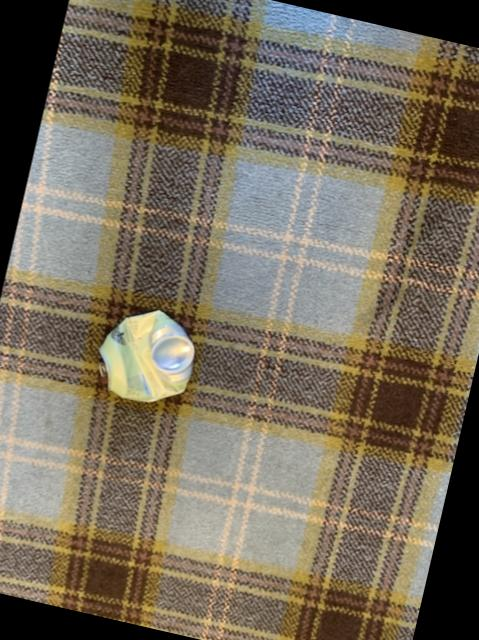metal: (99, 308, 195, 399)
